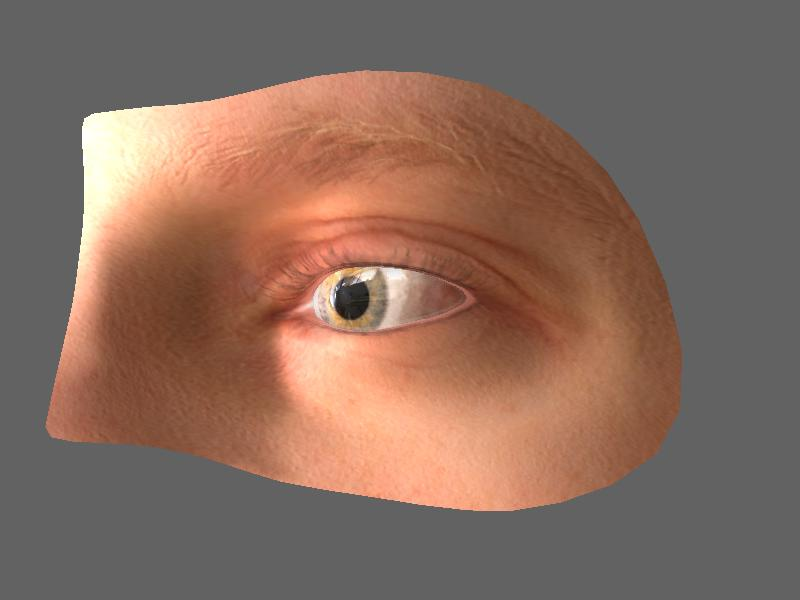iris: (318, 268, 391, 332)
